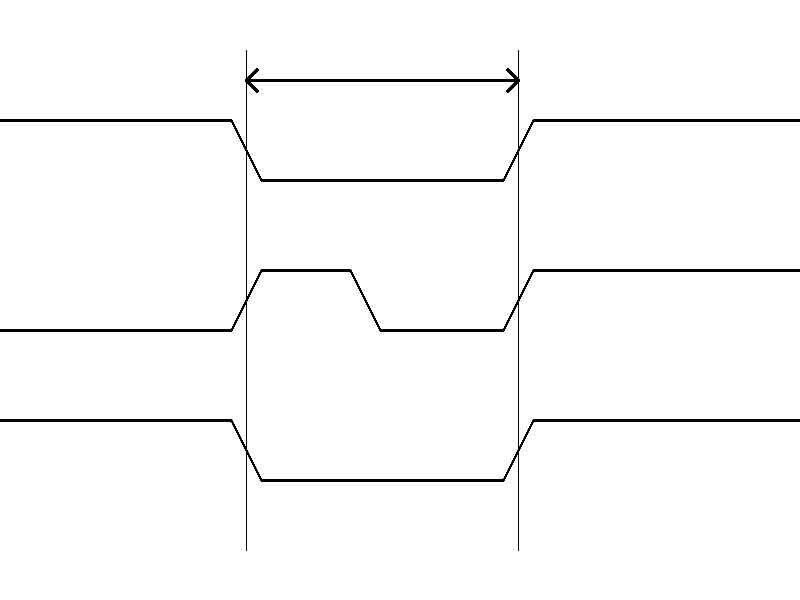double_arrow: (246, 65, 518, 95)
